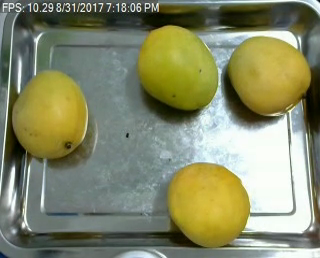Mango: (9, 69, 88, 159), (136, 25, 217, 111), (170, 162, 248, 247), (232, 36, 310, 114)
